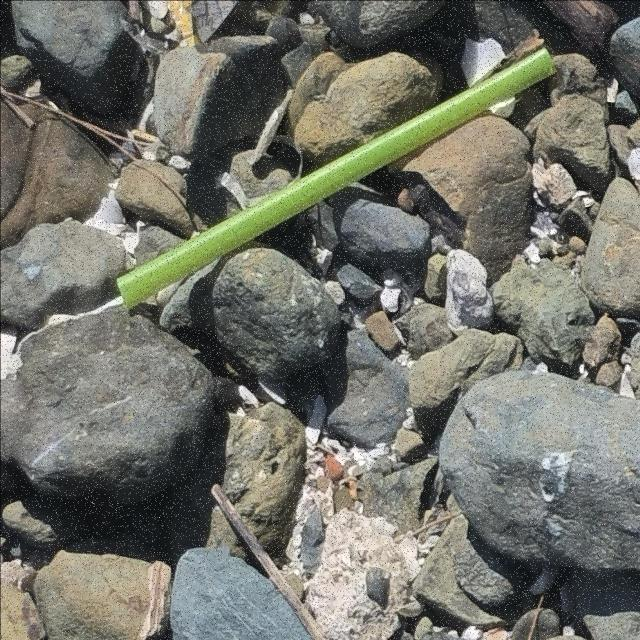plastic_waste: (114, 43, 558, 315)
